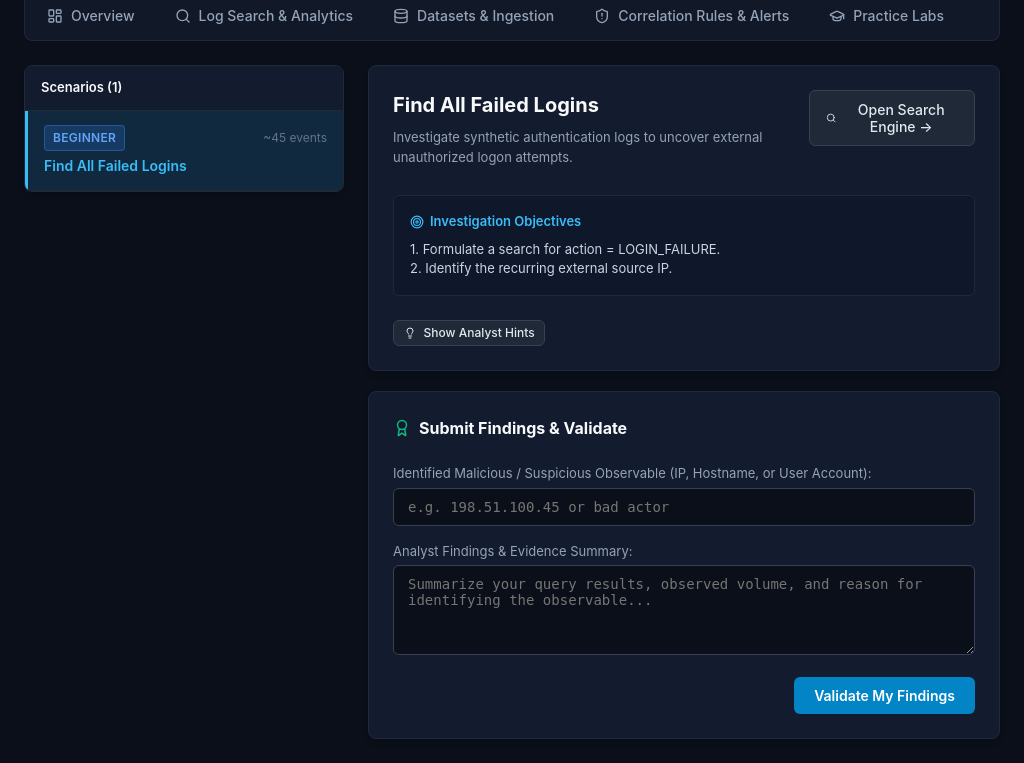
Test: Step 15: SIEM & Security Log Analysis Engine Frontend Tests › renders SiemLabsPage with scenario briefing and validation submission
(page scrolled)
Expected: the heading "Find All Failed Logins" is shown, left=393, top=93, right=599, bottom=117
Expected: the text "Investigation Objectives" is shown, left=410, top=213, right=581, bottom=229
# Validate submission
Click the button "Validate My Findings" at (885, 696), box left=794, top=677, right=975, bottom=714
(page scrolled)
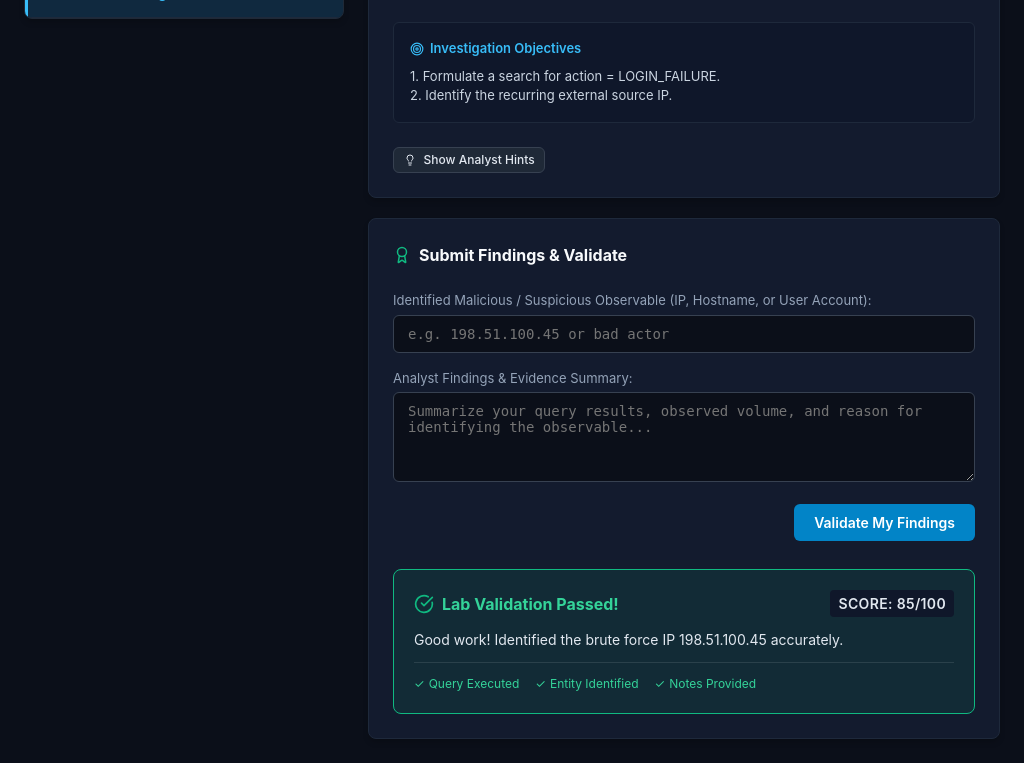
Result: the text "Lab Validation Passed!" is shown at left=442, top=592, right=619, bottom=616
Result: the text "Score: 85/100" is shown at left=830, top=590, right=954, bottom=618
